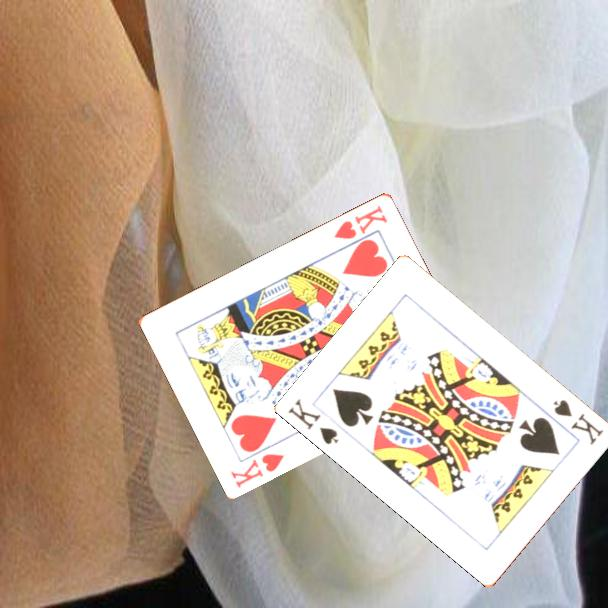h13: (330, 201, 390, 242), (227, 450, 287, 490)
s13: (285, 395, 342, 448), (550, 396, 607, 448)
